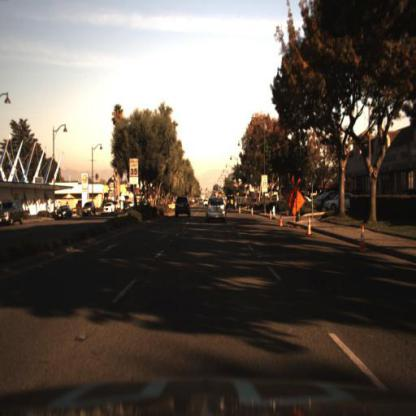car: (325, 187, 355, 219), (324, 191, 358, 214), (1, 200, 26, 228), (206, 194, 228, 223), (174, 193, 195, 220), (81, 199, 100, 220), (50, 206, 73, 223), (102, 200, 117, 219), (85, 201, 97, 222), (101, 201, 116, 217), (317, 193, 327, 215), (113, 194, 123, 214)
